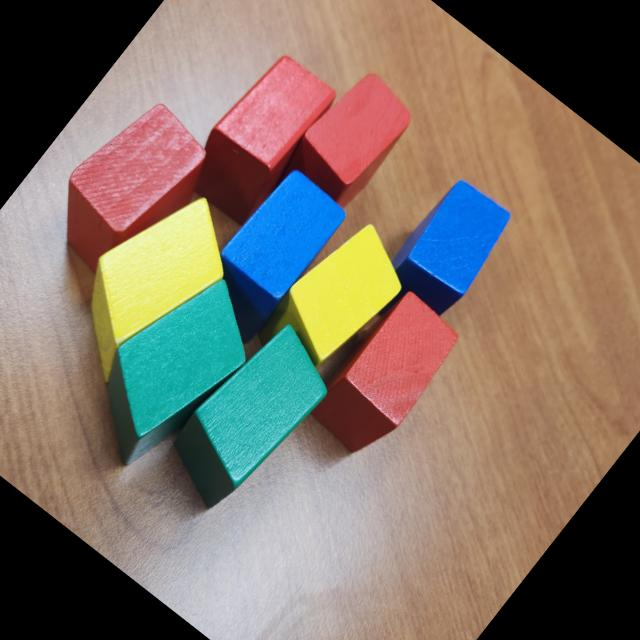blue: (182, 163, 352, 350), (371, 172, 522, 332)
green: (60, 252, 278, 486), (150, 309, 348, 525)
red: (30, 87, 228, 296), (294, 281, 470, 468), (176, 46, 346, 229), (272, 61, 424, 224)
yellow: (39, 168, 254, 400), (262, 210, 422, 380)
